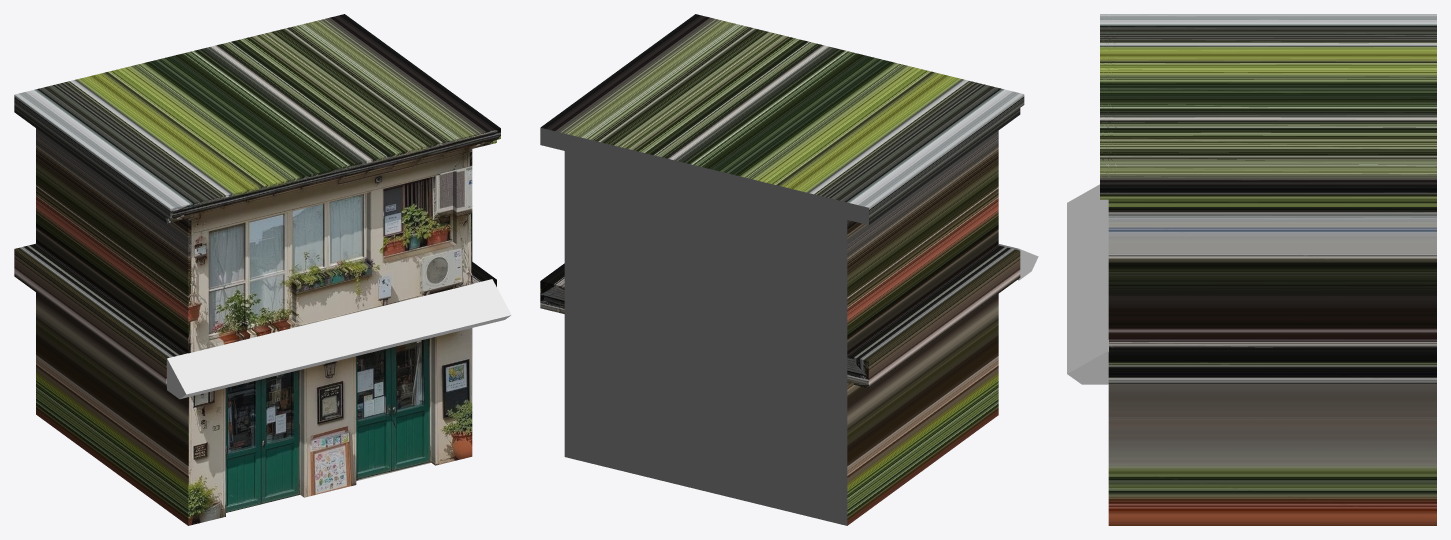
File: building 12_11-02-finished.glb
3 views of the same model, side by side, from view 1: azimuth 30°, elevation 25°; view 2: azimuth 150°, elevation 25°; view 3: azimuth 270°, elevation 25° (orthographic). The views are drawn at different scales.
Parts seen in each view (by area): view 1: Empty.001, Cube; view 2: Empty.001; view 3: Empty.001, Cube.
Boxes of the visible parts, <box> form: Empty.001: <box>14,14,500,525</box>; Cube: <box>167,279,511,399</box>; Empty.001: <box>540,14,1024,525</box>; Empty.001: <box>1100,14,1436,525</box>; Cube: <box>1067,184,1108,384</box>.
Bounding box in the file's own units: 3 × 2.82 × 2.69.
1 material, 1 textured.
